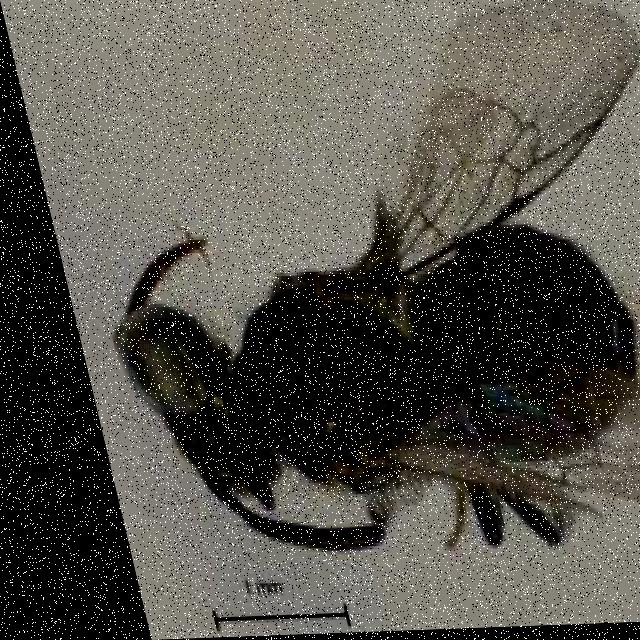Braunsapis: (30, 0, 640, 587)
